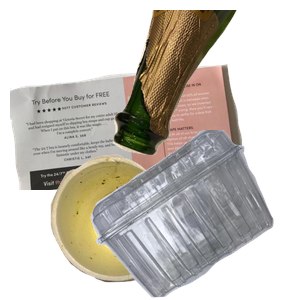glass: (111, 10, 300, 158)
paper: (10, 61, 250, 241)
plastic: (88, 130, 300, 300)
trash: (48, 152, 219, 300)
